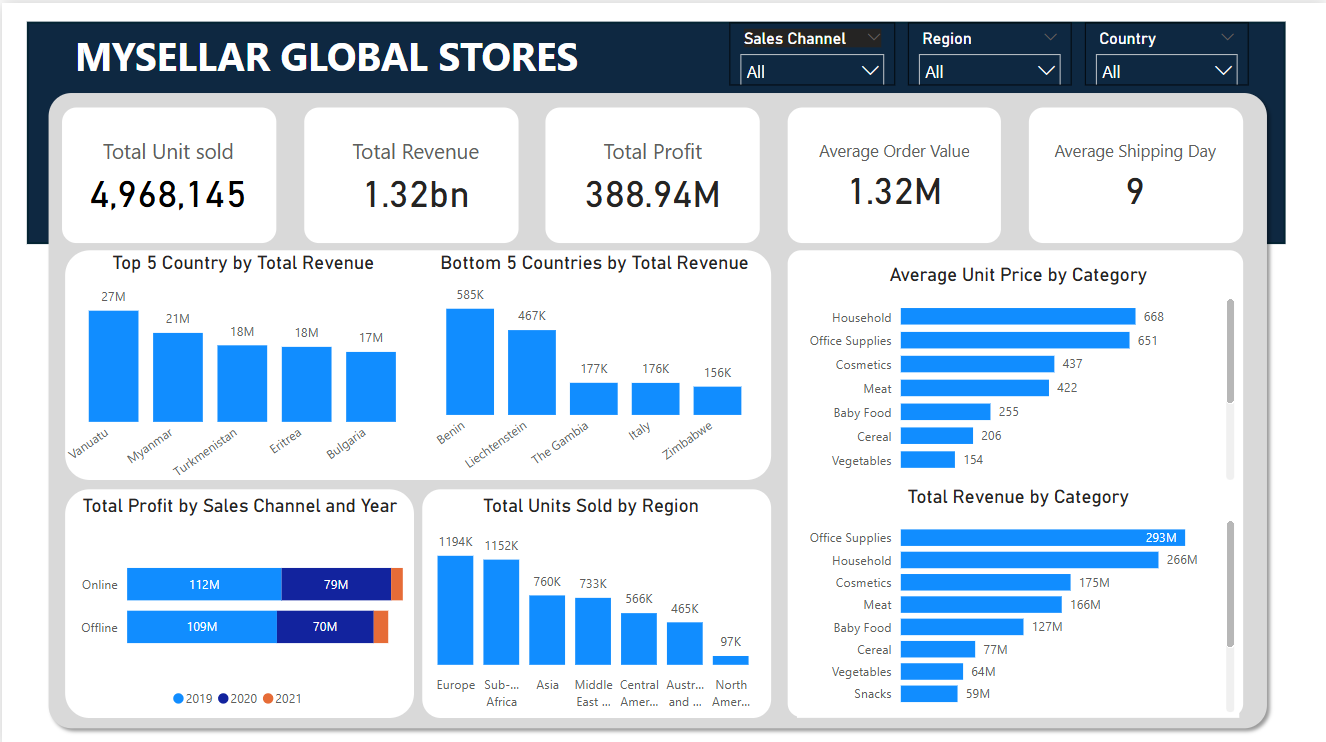

This screenshot's page, from the dashboard's own definition file:
{"tool":"powerbi","page":{"name":" Page 2","canvas":[1280,720],"ordinal":1},"visuals":[{"type":"cardVisual","fields":{"Data":["Key Measures.Total Unit sold"]},"box":[65.7,104.3,191.4,125.7],"z":0},{"type":"cardVisual","fields":{"Data":["Key Measures.Revenue"]},"box":[294.3,104.3,211.4,125.7],"z":1000},{"type":"cardVisual","fields":{"Data":["Key Measures.Total Profit"]},"box":[532.9,104.3,191.4,125.7],"z":2000},{"type":"cardVisual","fields":{"Data":["Key Measures.Average Order Value"]},"box":[767.1,104.3,191.4,125.7],"z":3000},{"type":"cardVisual","fields":{"Data":["Key Measures.Average Shipping Day"]},"box":[995.7,104.3,198.6,125.7],"z":4000},{"type":"textbox","box":[65.2,20.7,520.1,62],"z":9000},{"type":"slicer","fields":{"Values":["Orders.Sales Channel"]},"box":[702.8,18.2,160,60.8],"z":10000},{"type":"slicer","fields":{"Values":["Orders.Country"]},"box":[1047.1,18.2,158,60.8],"z":11000},{"type":"slicer","fields":{"Values":["Orders.Region"]},"box":[875.9,18.2,158,60.8],"z":12000},{"type":"columnChart","title":"Top 5 Country by Total Revenue","fields":{"Category":["Orders.Country"],"Y":["Sum(Orders.Total Revenue)"]},"box":[53.8,240,358.8,235],"z":12001},{"type":"columnChart","title":"Bottom 5 Countries by Total Revenue","fields":{"Category":["Orders.Country"],"Y":["Sum(Orders.Total Revenue)"]},"box":[400,240,345,226.2],"z":12002},{"type":"barChart","title":"Total Profit by Sales Channel and Year","fields":{"Category":["Orders.Sales Channel"],"Y":["Sum(Orders.Total Profit)"],"Series":["Date.Year"]},"box":[66.2,475,326.2,215],"z":12003},{"type":"columnChart","title":"Total Units Sold by Region","fields":{"Y":["Sum(Orders.Units Sold)"],"Category":["Orders.Region"]},"box":[392.5,475,352.5,215],"z":12004},{"type":"clusteredBarChart","fields":{"Category":["Orders.Category"],"Y":["Key Measures.Average Unit Price"]},"box":[767.5,252.5,427.5,213.8],"z":12005},{"type":"barChart","fields":{"Y":["Key Measures.Revenue"],"Category":["Orders.Category"]},"box":[767.5,466.2,427.5,223.8],"z":12006}]}

Visuals, with their boxes in screenshot pixels (x1, y1, x2, y2), scaled from the page's 1280x720 canvas onto the 1326x742 screenshot:
cardVisual - Key Measures.Total Unit sold: bbox=(68, 107, 266, 237)
cardVisual - Key Measures.Revenue: bbox=(305, 107, 524, 237)
cardVisual - Key Measures.Total Profit: bbox=(552, 107, 750, 237)
cardVisual - Key Measures.Average Order Value: bbox=(795, 107, 993, 237)
cardVisual - Key Measures.Average Shipping Day: bbox=(1031, 107, 1237, 237)
textbox: bbox=(68, 21, 606, 85)
slicer - Orders.Sales Channel: bbox=(728, 19, 894, 81)
slicer - Orders.Country: bbox=(1085, 19, 1248, 81)
slicer - Orders.Region: bbox=(907, 19, 1071, 81)
"Top 5 Country by Total Revenue" columnChart: bbox=(56, 247, 427, 490)
"Bottom 5 Countries by Total Revenue" columnChart: bbox=(414, 247, 772, 480)
"Total Profit by Sales Channel and Year" barChart: bbox=(69, 490, 407, 711)
"Total Units Sold by Region" columnChart: bbox=(407, 490, 772, 711)
clusteredBarChart - Orders.Category x Key Measures.Average Unit Price: bbox=(795, 260, 1238, 481)
barChart - Key Measures.Revenue x Orders.Category: bbox=(795, 480, 1238, 711)
